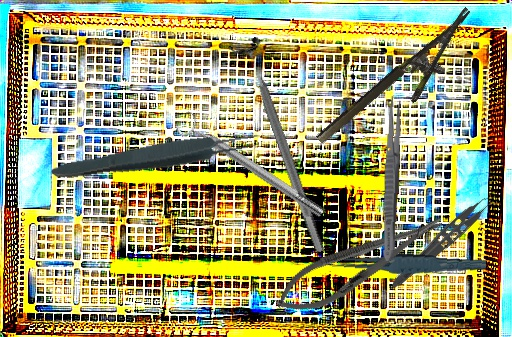Dressing Forceps: (380, 95, 403, 262)
Fixation Ring: (227, 35, 337, 258), (173, 108, 330, 226)
Needle Holder: (314, 7, 492, 165), (267, 201, 452, 327)
Tissue Forceps: (50, 126, 263, 187), (388, 186, 502, 299), (327, 245, 487, 282)
